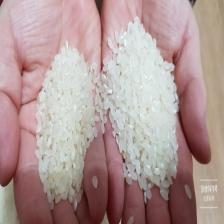rice: (104, 16, 179, 198), (36, 43, 97, 206)
